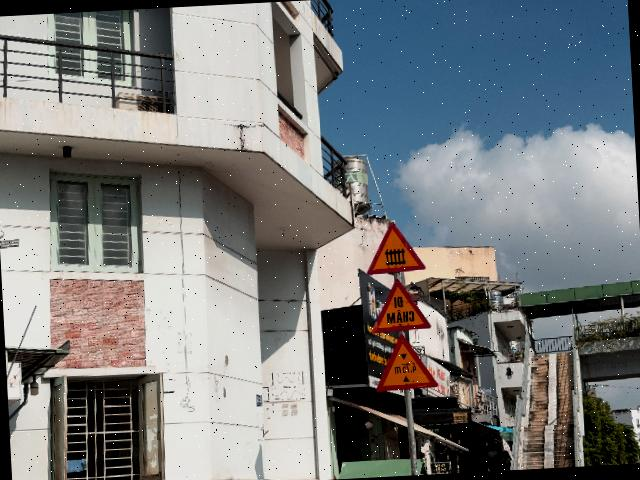chieu-cao-tinh-khong-thuc-te: (373, 332, 438, 392)
di-cham: (369, 278, 432, 334)
noi-giao-nhau-voi-duong-sat-co-rao-chan: (364, 219, 426, 275)
